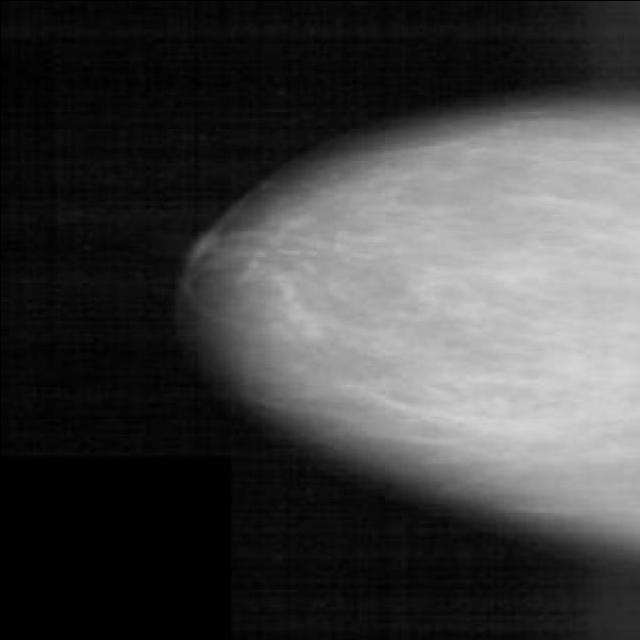tumor: (232, 207, 338, 346)
